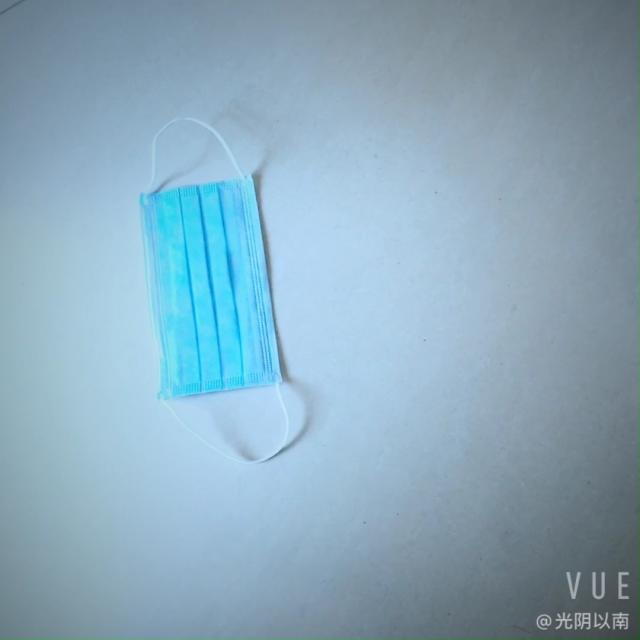non-organic waste: (147, 159, 307, 414)
